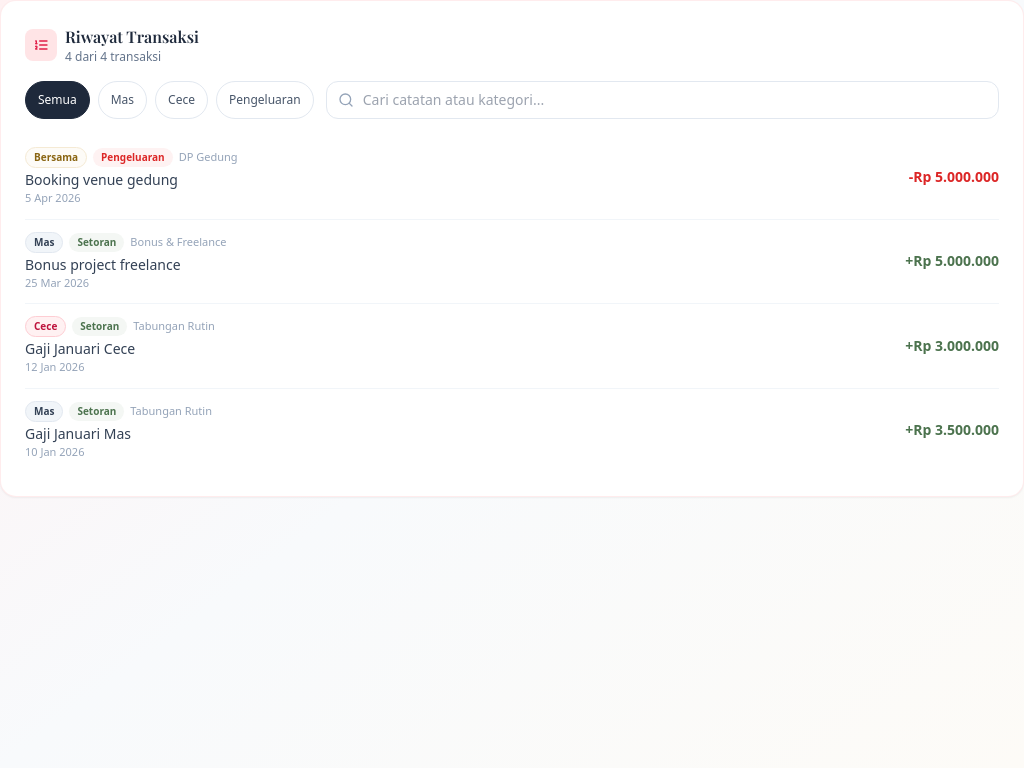
Test: TransactionHistory Component › filters by Mas
Click the button "Mas": (122, 100) [98,81,147,119]
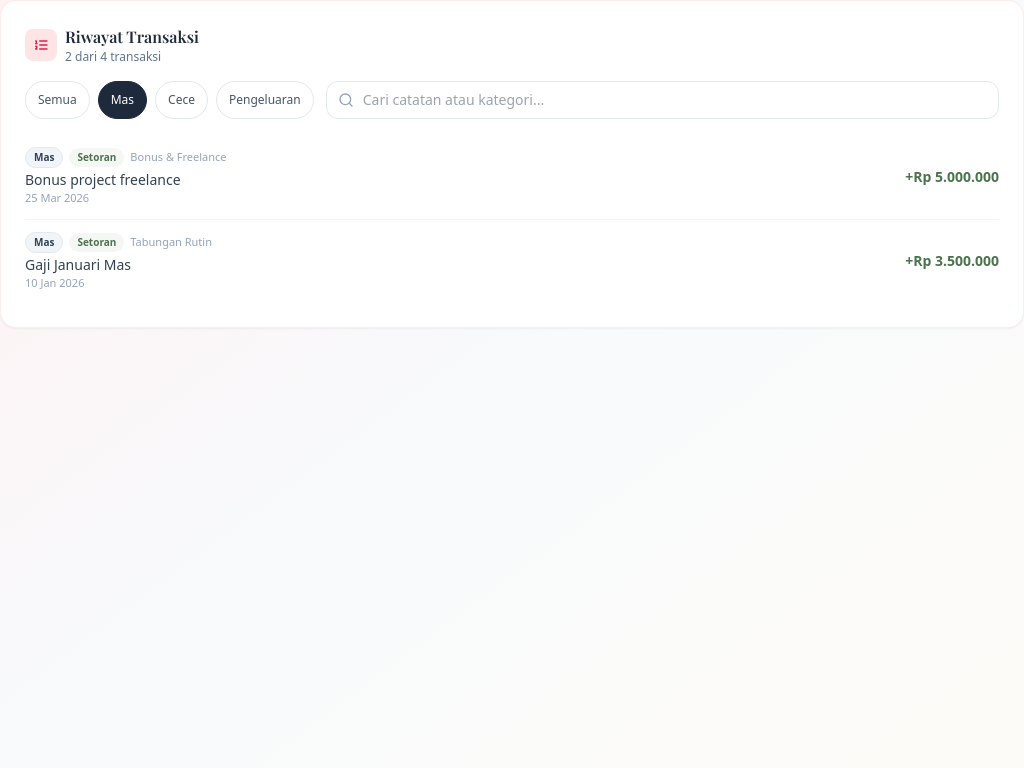
Expected: the list item with test id "tx-row" shows "Mas", [34,150,54,164]
Expected: the number of list items with test id "tx-row" is 2, [25,135,999,218]; [25,218,999,303]
